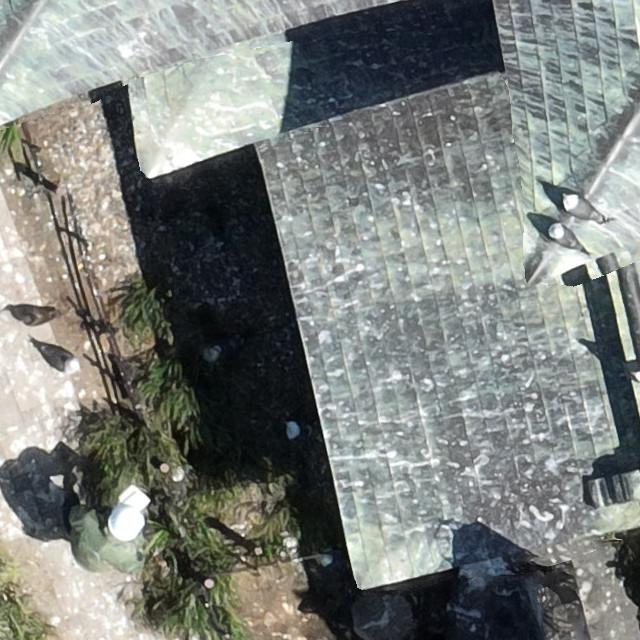umineko: (564, 193, 604, 224), (548, 223, 585, 254), (204, 337, 246, 360), (40, 345, 76, 370), (315, 553, 347, 575), (286, 419, 303, 440)
